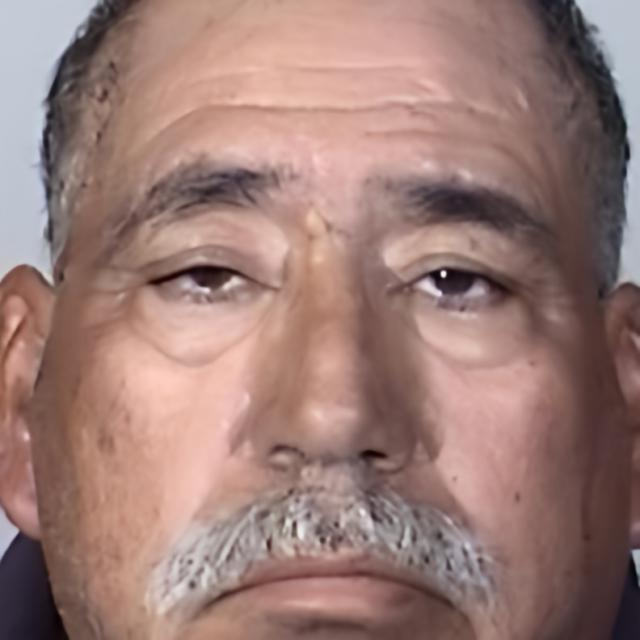sad: (57, 3, 597, 640)
